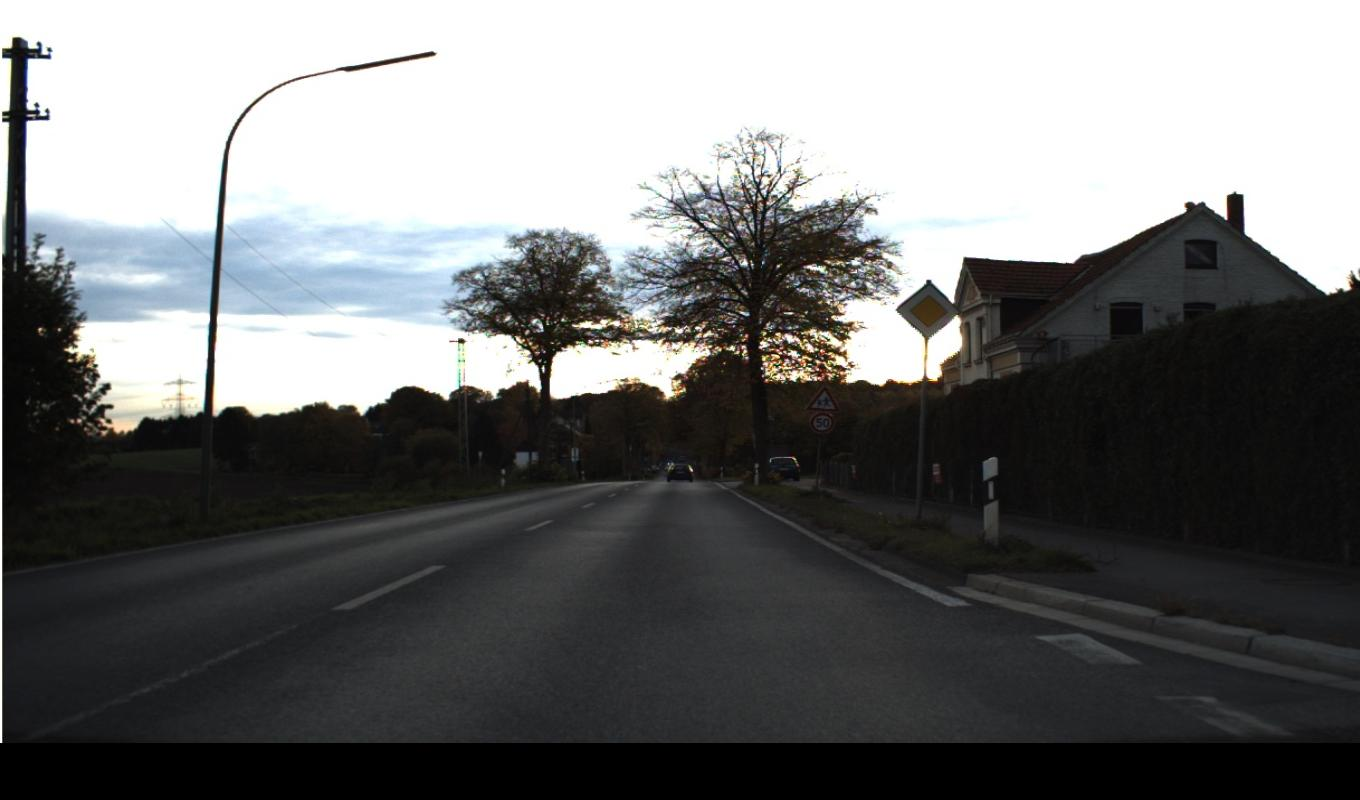school crossing: (802, 281, 961, 434)
